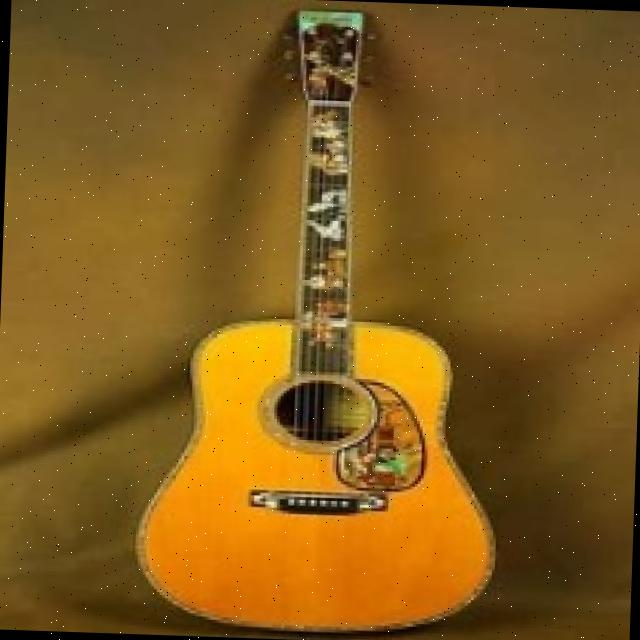guitar: (128, 2, 516, 640)
